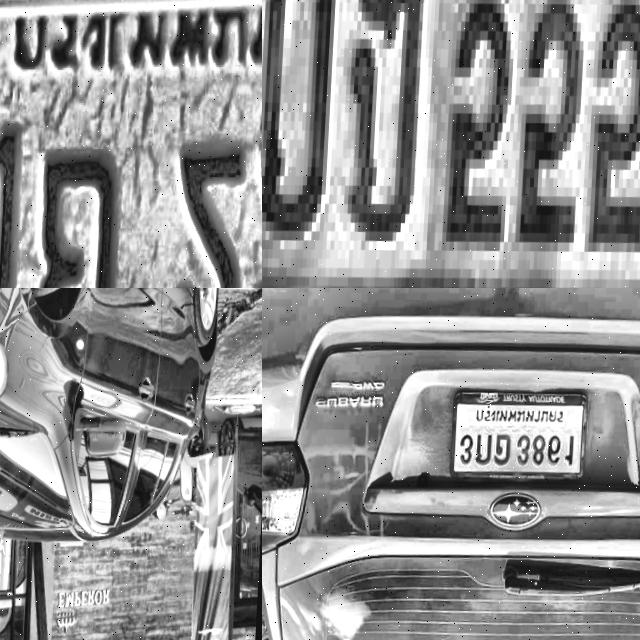license-plate: (262, 0, 640, 288), (0, 0, 262, 288), (446, 385, 592, 491)
